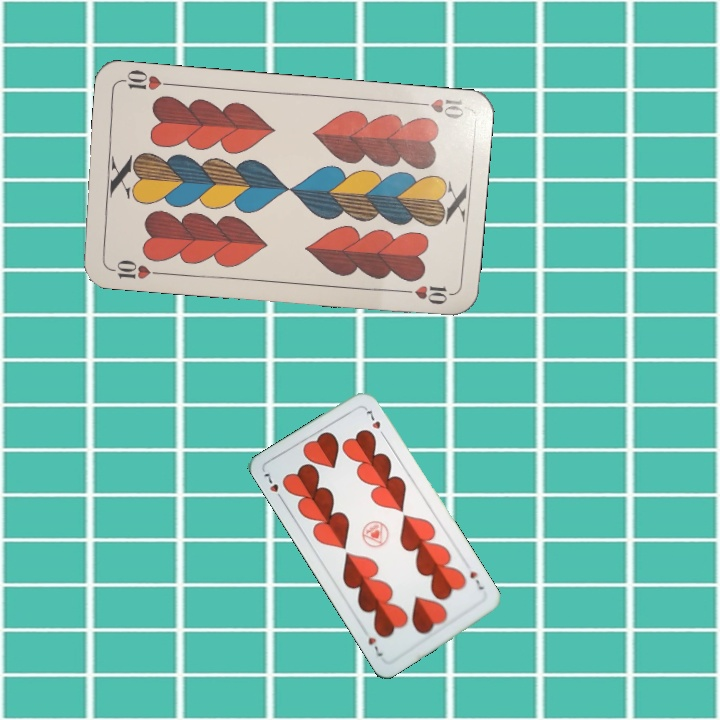H10: (104, 255, 163, 282), (409, 94, 467, 121)
H7: (260, 469, 286, 504), (466, 567, 487, 592)
